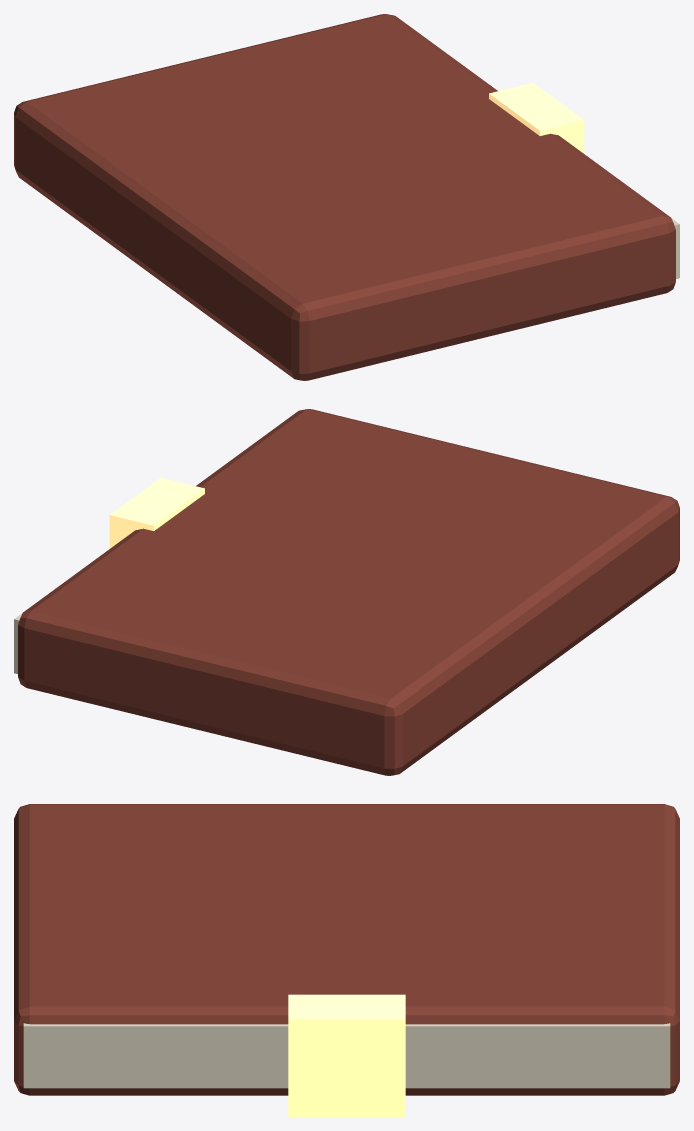
The model's file is Ledger.glb.
3 renders of one model, top to bottom at view 1: azimuth 30°, elevation 25°; view 2: azimuth 150°, elevation 25°; view 3: azimuth 270°, elevation 25°, orthographic. The views are drawn at different scales.
Visible parts, largest first — view 1: Ledger; view 2: Ledger; view 3: Ledger.
Part boxes in pixels (bbox=[...]): Ledger: bbox=[14, 14, 679, 380]; Ledger: bbox=[14, 409, 679, 775]; Ledger: bbox=[14, 804, 679, 1116].
Size of the model in its own units: 0.275 by 0.055 by 0.34.
